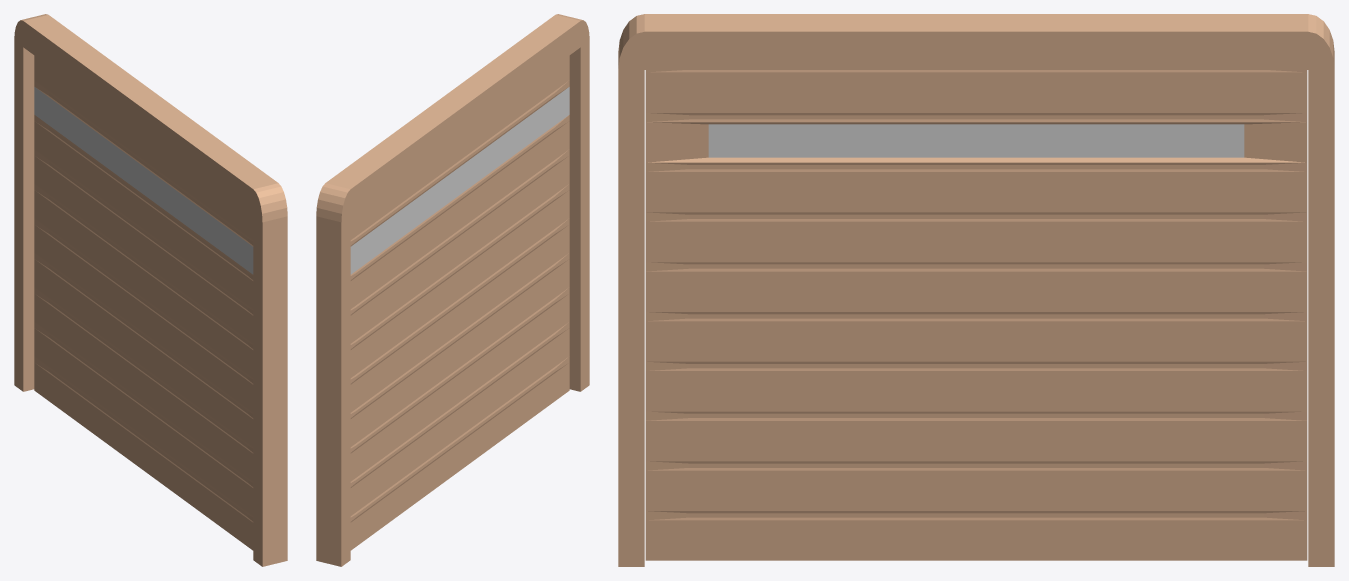
File: porton.fbx
3 views of the same model, side by side, from view 1: azimuth 30°, elevation 25°; view 2: azimuth 150°, elevation 25°; view 3: azimuth 270°, elevation 25° (orthographic). The views are drawn at different scales.
Visible parts, largest first — view 1: Cube, Cube.001; view 2: Cube, Cube.001; view 3: Cube, Cube.001.
Part boxes in pixels (box(x1,y1,x2,y2)): Cube: box(34, 55, 253, 550); Cube.001: box(14, 14, 287, 566); Cube: box(350, 55, 569, 550); Cube.001: box(316, 14, 589, 566); Cube: box(645, 70, 1307, 560); Cube.001: box(618, 14, 1334, 566).
Bounding box in the file's own units: 200 × 2813 × 3405.
